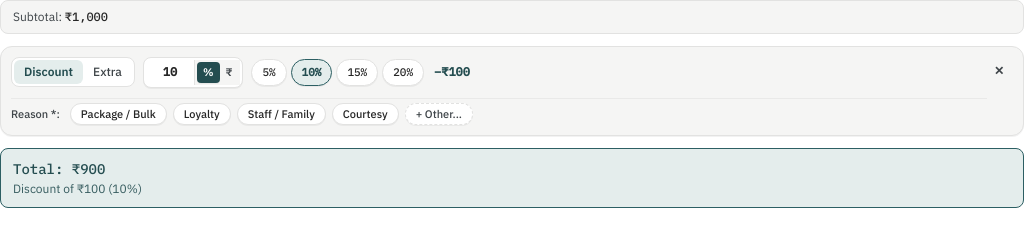
it: BillAdjustmentFields › reveals custom reason input when + Other... is clicked
The width and height of the screenshot is (1024, 225).
Click the button "+ Other...": [439, 114] box [405,102,473,125]
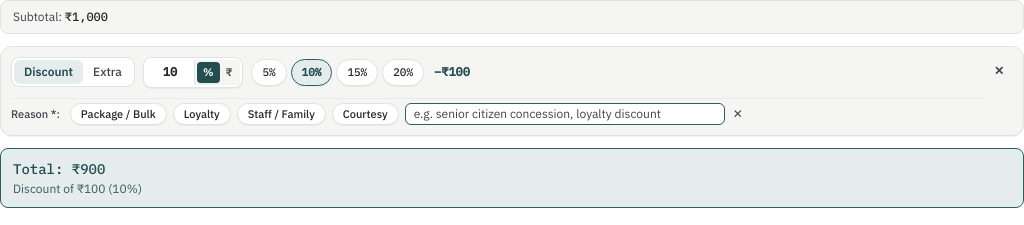
Expected: the field with placeholder "e.g. senior citizen concession, loyalty discount" is shown, [405,103,725,125]
